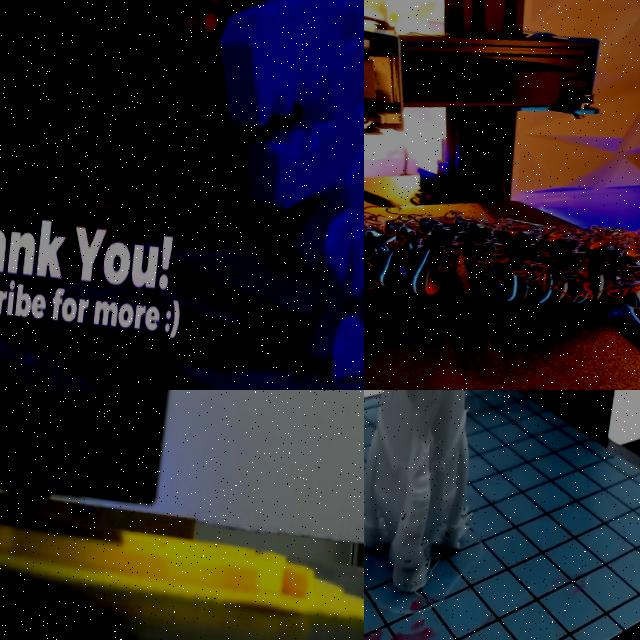spaghetti: (372, 202, 640, 313)
